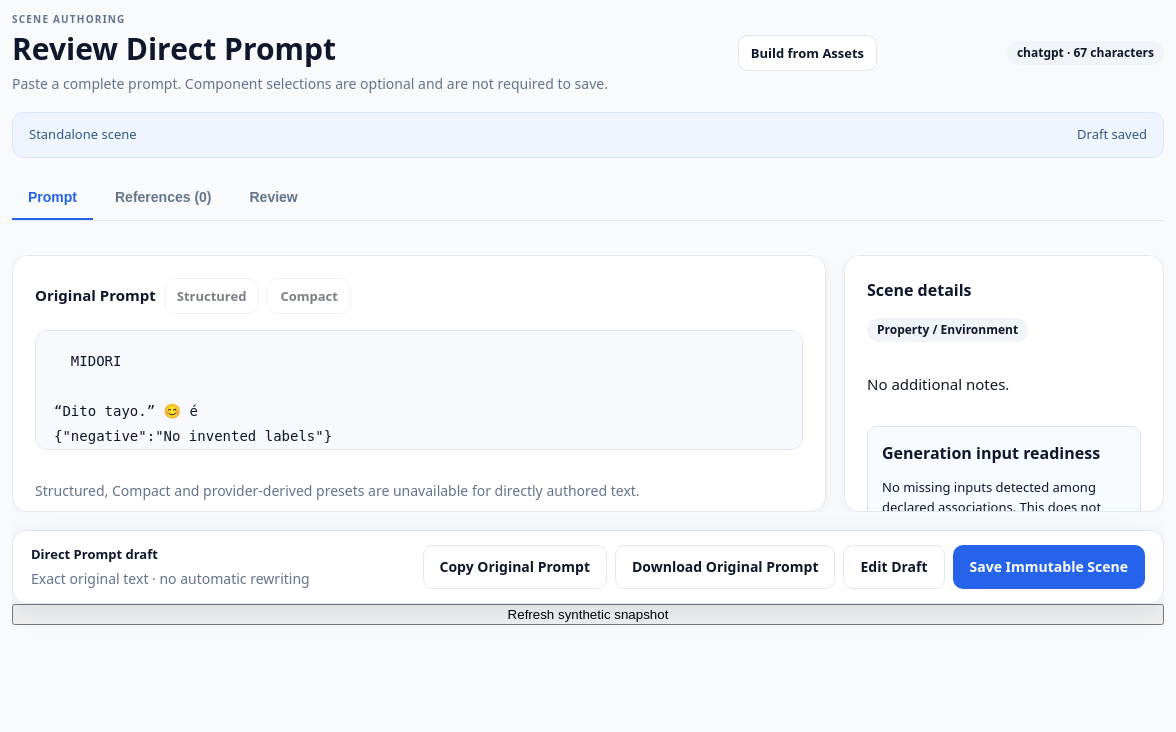
Test: keeps the draft and input buffer when assembly/save fails
Check: the heading "Review Direct Prompt" is shown, box [12,28,336,69]
Click the button "Save Immutable Scene": (1049, 567) [953,545,1145,589]
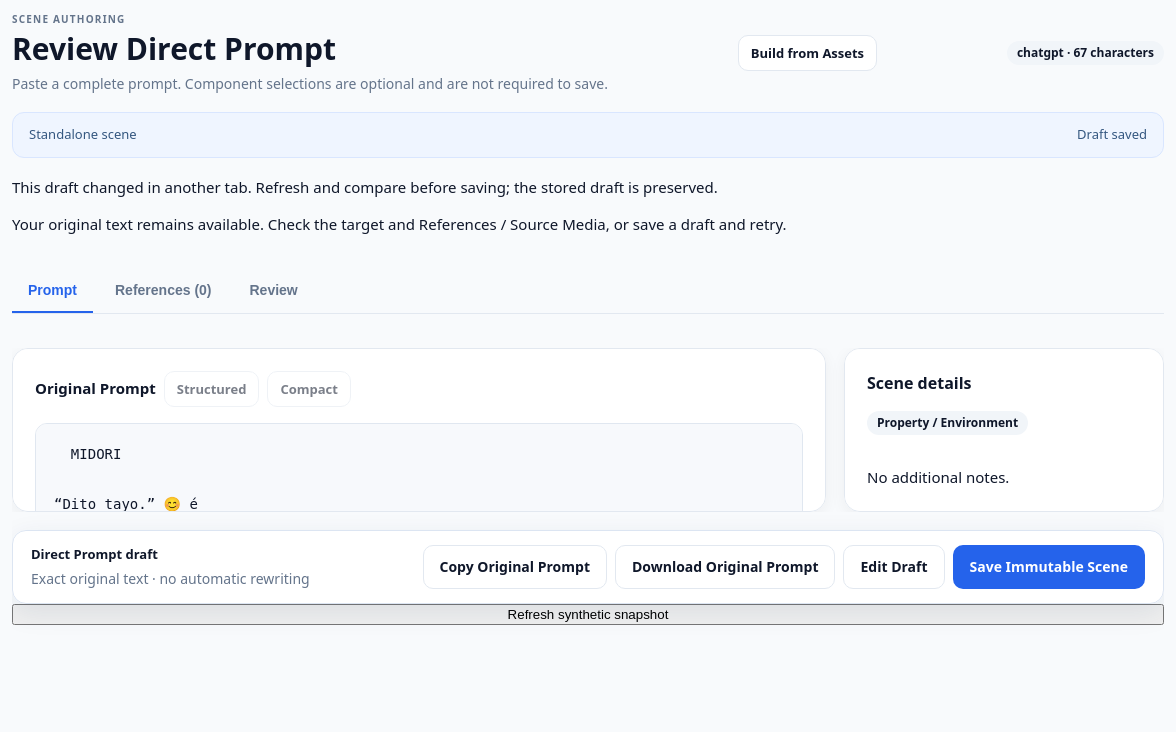
Check: the message is shown, box [12,176,787,234]
